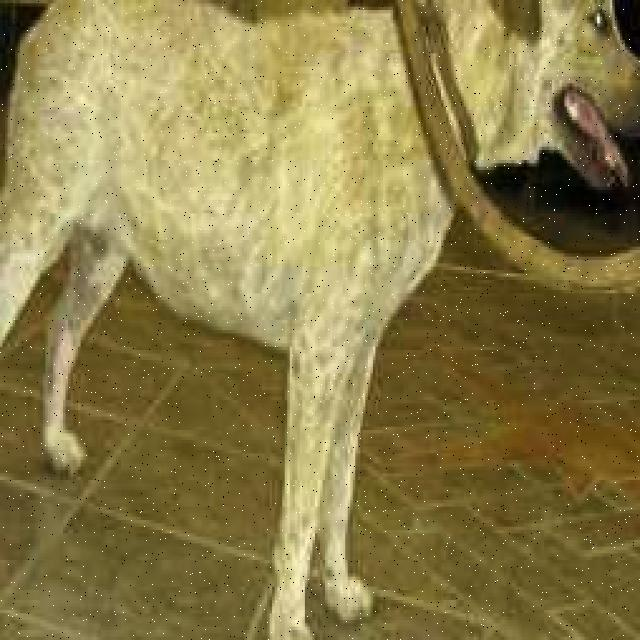Dog: (421, 0, 640, 213)
